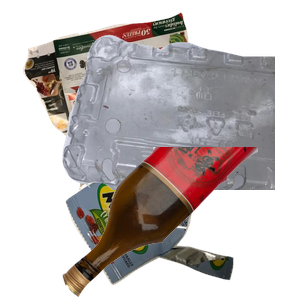glass: (60, 147, 300, 300)
paper: (20, 10, 231, 190)
plastic: (60, 32, 300, 212)
trash: (63, 137, 289, 300)
